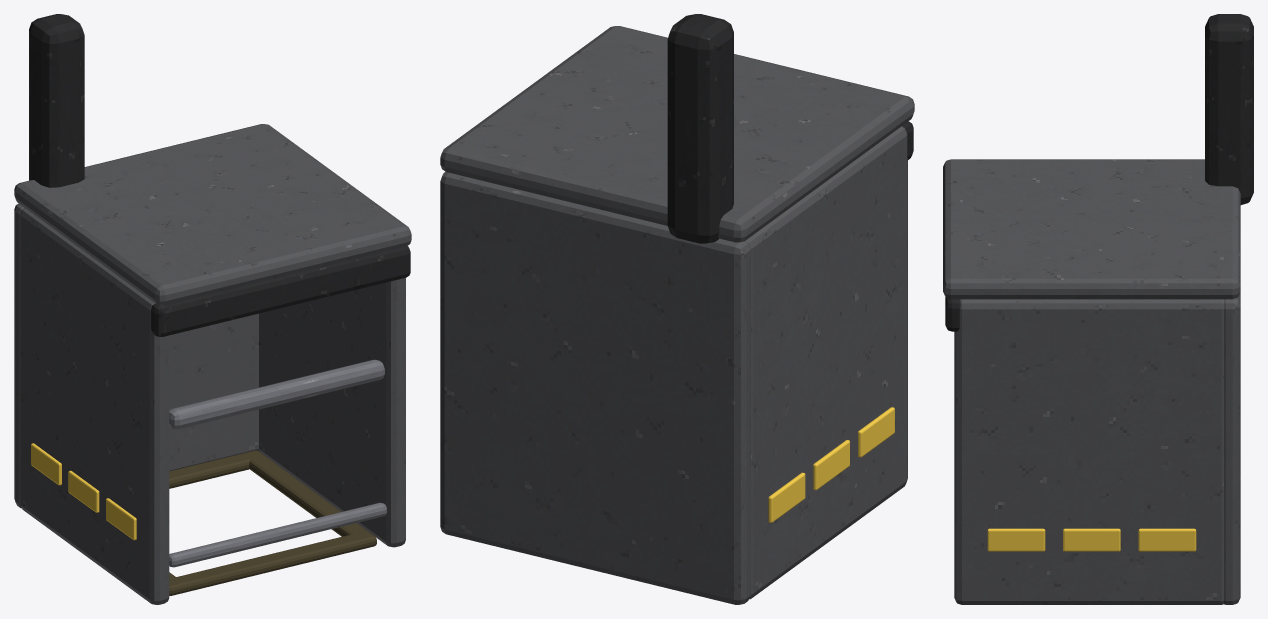
Rendered from decor_cargo_chute.glb.
3 views of the same model, side by side, from view 1: azimuth 30°, elevation 25°; view 2: azimuth 150°, elevation 25°; view 3: azimuth 270°, elevation 25° (orthographic). The views are drawn at different scales.
Parts seen in each view (by area): view 1: DEC_CargoChute__Hood_L, DEC_CargoChute__Hood_Top, DEC_CargoChute__Hood_R, DEC_CargoChute__Hood_Back, DEC_CargoChute__Duct, DEC_CargoChute__Hood_Lintel, DEC_CargoChute__Roller_Lip, DEC_CargoChute__Sill_Front, DEC_CargoChute__Kick_Rail, DEC_CargoChute__Sill_R, DEC_CargoChute__Sill_Back, DEC_CargoChute__Hood_Chevron_L_2 (+2 smaller); view 2: DEC_CargoChute__Hood_Back, DEC_CargoChute__Hood_L, DEC_CargoChute__Hood_Top, DEC_CargoChute__Duct, DEC_CargoChute__Hood_Chevron_L_3, DEC_CargoChute__Hood_Chevron_L_1, DEC_CargoChute__Hood_Chevron_L_2; view 3: DEC_CargoChute__Hood_R, DEC_CargoChute__Hood_Top, DEC_CargoChute__Duct, DEC_CargoChute__Hood_Back, DEC_CargoChute__Hood_Chevron_R_3, DEC_CargoChute__Hood_Chevron_R_1, DEC_CargoChute__Hood_Chevron_R_2, DEC_CargoChute__Hood_Lintel.
Boxes of the visible parts, x1=… form: DEC_CargoChute__Hood_L: x1=20, y1=208, x2=169, y2=604; DEC_CargoChute__Hood_Top: x1=14, y1=124, x2=411, y2=305; DEC_CargoChute__Hood_R: x1=259, y1=277, x2=405, y2=547; DEC_CargoChute__Hood_Back: x1=14, y1=203, x2=259, y2=508; DEC_CargoChute__Duct: x1=29, y1=14, x2=84, y2=187; DEC_CargoChute__Hood_Lintel: x1=151, y1=246, x2=410, y2=336; DEC_CargoChute__Roller_Lip: x1=169, y1=359, x2=384, y2=428; DEC_CargoChute__Sill_Front: x1=169, y1=531, x2=376, y2=595; DEC_CargoChute__Kick_Rail: x1=169, y1=502, x2=386, y2=567; DEC_CargoChute__Sill_R: x1=243, y1=450, x2=376, y2=546; DEC_CargoChute__Sill_Back: x1=169, y1=450, x2=264, y2=488; DEC_CargoChute__Hood_Chevron_L_2: x1=68, y1=470, x2=99, y2=512; DEC_CargoChute__Hood_Back: x1=440, y1=171, x2=750, y2=604; DEC_CargoChute__Hood_L: x1=746, y1=126, x2=907, y2=599; DEC_CargoChute__Hood_Top: x1=440, y1=26, x2=914, y2=242; DEC_CargoChute__Duct: x1=667, y1=14, x2=733, y2=243; DEC_CargoChute__Hood_Chevron_L_3: x1=768, y1=472, x2=805, y2=522; DEC_CargoChute__Hood_Chevron_L_1: x1=858, y1=407, x2=894, y2=457; DEC_CargoChute__Hood_Chevron_L_2: x1=813, y1=440, x2=849, y2=490; DEC_CargoChute__Hood_R: x1=954, y1=299, x2=1223, y2=604; DEC_CargoChute__Hood_Top: x1=943, y1=159, x2=1240, y2=299; DEC_CargoChute__Duct: x1=1205, y1=14, x2=1253, y2=204; DEC_CargoChute__Hood_Back: x1=1224, y1=292, x2=1240, y2=604; DEC_CargoChute__Hood_Chevron_R_3: x1=1138, y1=528, x2=1196, y2=551; DEC_CargoChute__Hood_Chevron_R_1: x1=987, y1=528, x2=1045, y2=551; DEC_CargoChute__Hood_Chevron_R_2: x1=1063, y1=528, x2=1120, y2=551; DEC_CargoChute__Hood_Lintel: x1=945, y1=297, x2=960, y2=331.
Bounding box in the file's own units: 1.37 × 2.4 × 1.4.
6 materials, 3 textured.
